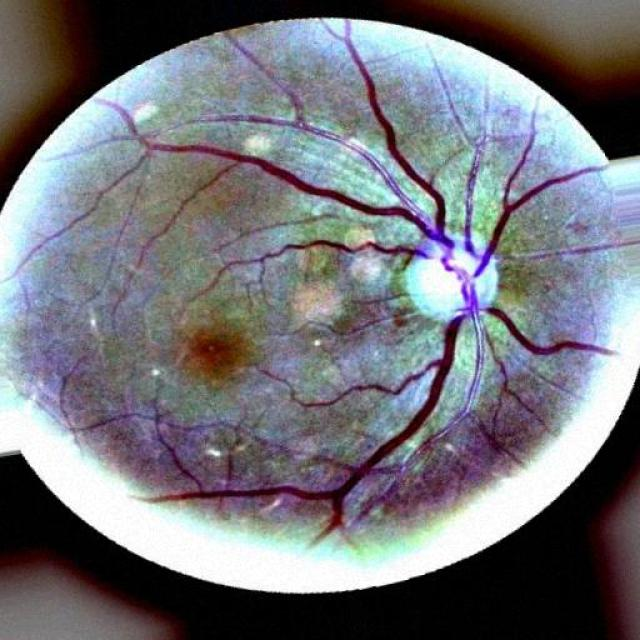Macula: (158, 313, 272, 396)
Nerves: (286, 172, 430, 237), (385, 139, 451, 225), (410, 329, 461, 425), (499, 313, 570, 366), (480, 179, 534, 244)
Optic Disk: (406, 236, 504, 328)
